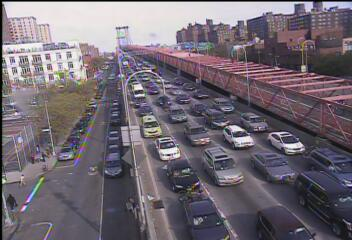neg: (70, 100, 88, 124), (52, 107, 62, 121), (29, 110, 39, 123), (50, 137, 59, 149)
pos: (18, 171, 31, 188), (27, 151, 36, 164), (39, 152, 48, 164), (32, 141, 41, 152)
